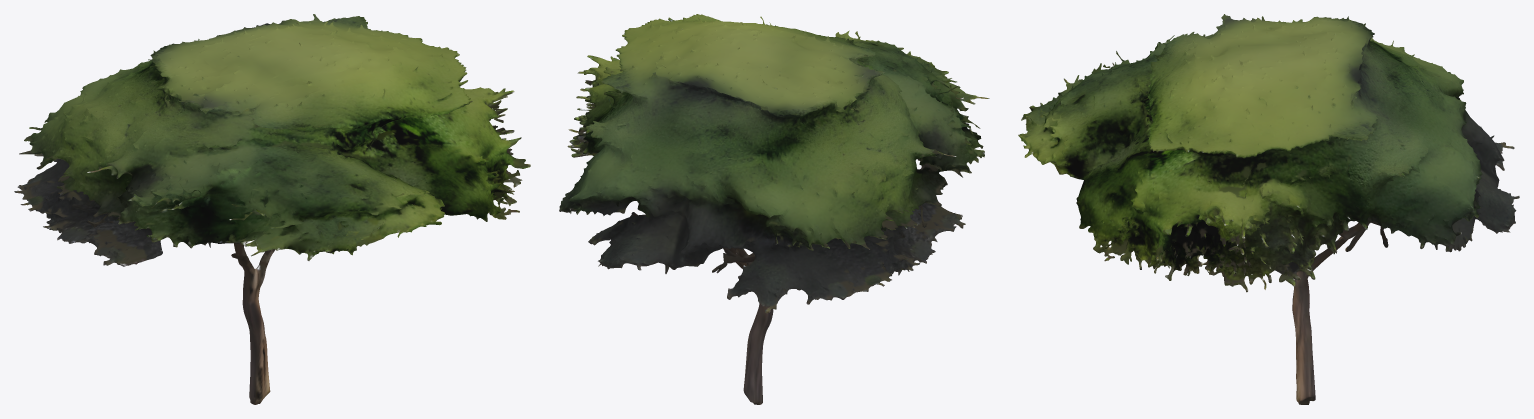
File: Tree1.glb
3 renders of one model, left to right at view 1: azimuth 30°, elevation 25°; view 2: azimuth 150°, elevation 25°; view 3: azimuth 270°, elevation 25°, orthographic. The views are drawn at different scales.
Visible parts, largest first — view 1: model; view 2: model; view 3: model.
Part boxes in pixels (box(x1,y1,x2,y2)): model: box(14, 14, 530, 404); model: box(559, 14, 989, 404); model: box(1018, 14, 1519, 404).
Size of the model in its own units: 6.13 by 5.14 by 6.48.
1 material, 1 textured.
